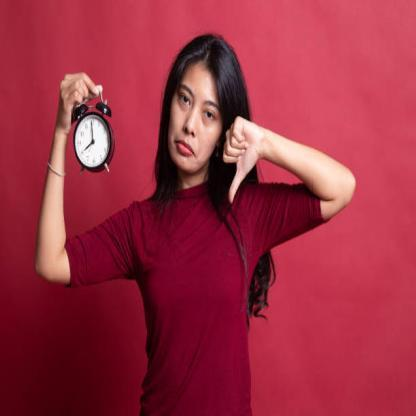thumb_down: (221, 113, 261, 208)
